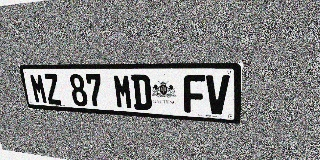7: (84, 74, 105, 107)
8: (68, 74, 88, 106)
D: (131, 74, 152, 110)
F: (183, 75, 205, 114)
M: (113, 74, 133, 109), (29, 74, 48, 104)
V: (206, 75, 229, 115)
Z: (43, 74, 62, 105)
